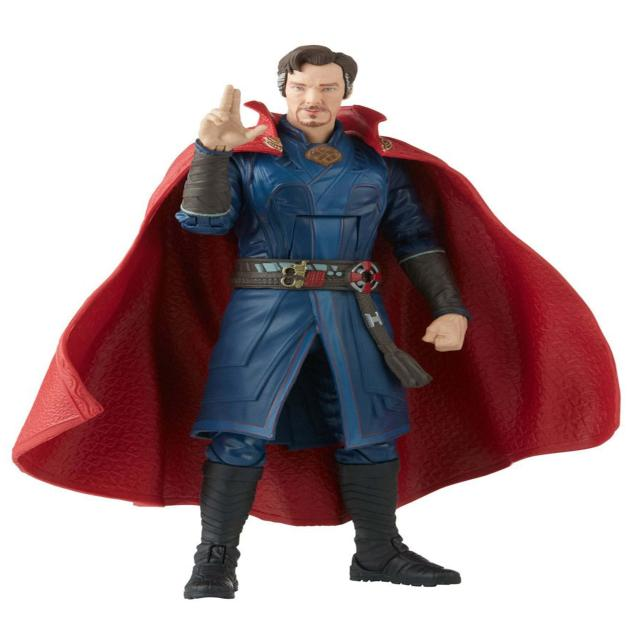doctor_strange: (130, 41, 485, 596)
